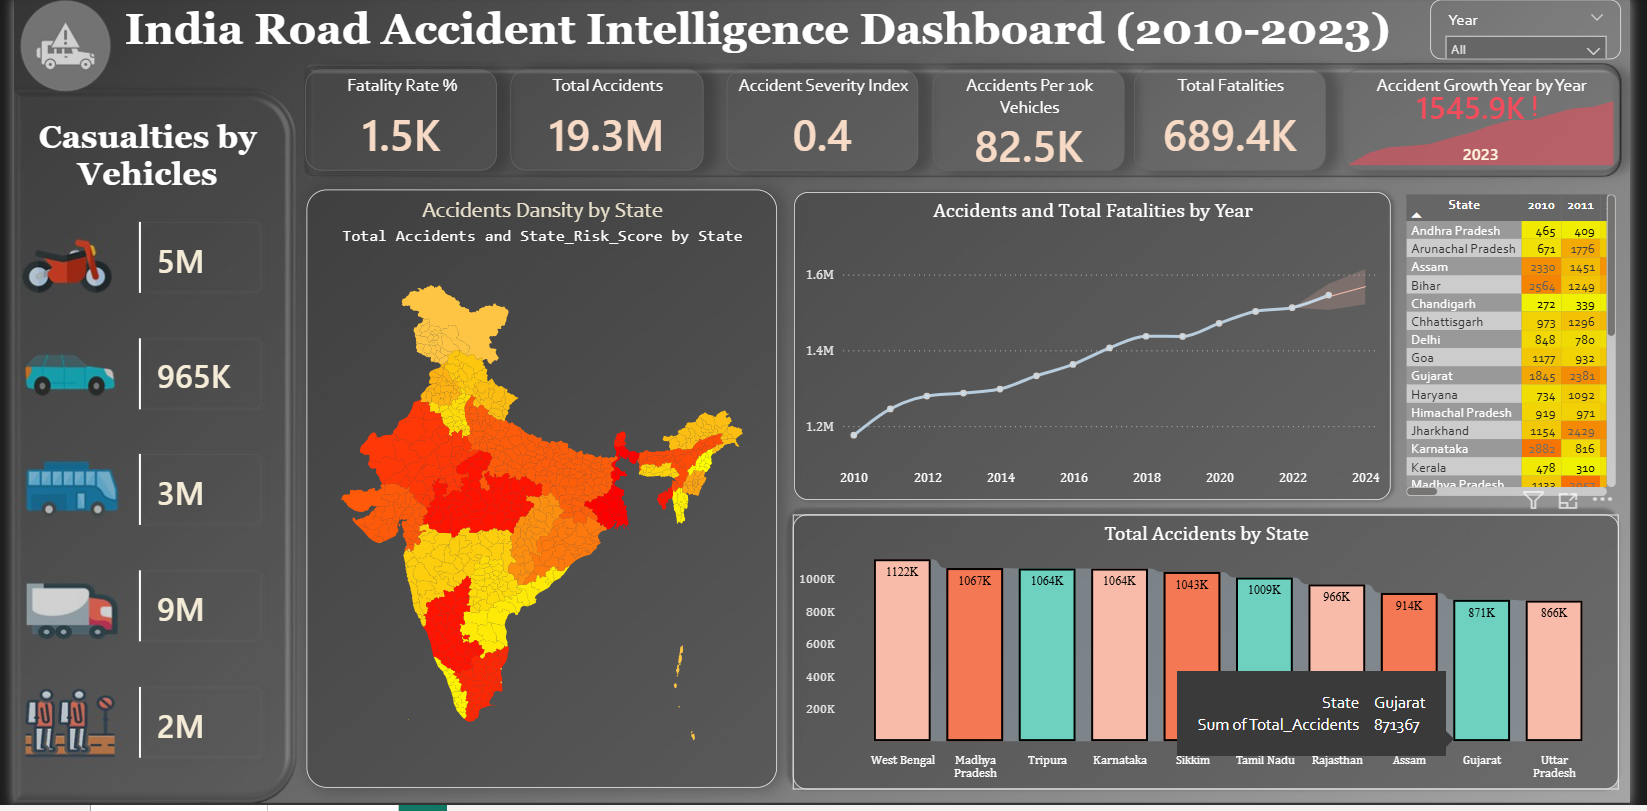

This screenshot's page, from the dashboard's own definition file:
{"tool":"powerbi","page":{"name":"National Overview","canvas":[1600,800],"ordinal":0},"visuals":[{"type":"textbox","box":[94.5,2.9,1316.9,68.3],"z":1000},{"type":"card","title":"Total Accidents","fields":{"Values":["Sum(India_Accidents_Data_2010_2023.Total_Accidents)"]},"box":[303.5,76.2,192,100.2],"z":2000},{"type":"card","title":"Fatality Rate %","fields":{"Values":["Accidents.Fatality Rate %"]},"box":[543,76.7,189.2,100.2],"z":3000},{"type":"card","title":"Accident Severity Index","fields":{"Values":["Avg(India_Accidents_Data_2010_2023.Severity_Index)"]},"box":[785.4,76.7,189.2,100.2],"z":4000},{"type":"card","title":"Total Fatalities","fields":{"Values":["Sum(India_Accidents_Data_2010_2023.Persons_Killed)"]},"box":[1036.5,76.7,190.5,100.2],"z":6000},{"type":"lineChart","fields":{"Category":["India_Accidents_Data_2010_2023.Year"],"Y":["Sum(India_Accidents_Data_2010_2023.Total_Accidents)"]},"box":[753.3,193,590,305.5],"z":7000},{"type":"columnChart","title":"Total Accidents by State","fields":{"Category":["India_Accidents_Data_2010_2023.State"],"Y":["Sum(India_Accidents_Data_2010_2023.Total_Accidents)"]},"box":[753.3,510.8,817.6,272.1],"z":8000},{"type":"shapeMap","title":"Accidents Dansity by State","fields":{"Category":["India_Accidents_Data_2010_2023.State"],"Value":["Sum(India_Accidents_Data_2010_2023.Total_Accidents)"]},"box":[289.4,190.5,442.8,592.5],"z":9000},{"type":"kpi","title":"Accident Growth Year by Year","fields":{"TrendLine":["India_Accidents_Data_2010_2023.Year"],"Indicator":["Sum(India_Accidents_Data_2010_2023.Total_Accidents)"],"Goal":["Min(India_Accidents_Data_2010_2023.Total_Accidents)"]},"box":[1288.8,75.4,273.3,100.2],"z":11000},{"type":"slicer","title":"Year","fields":{"Values":["India_Accidents_Data_2010_2023.Year"]},"box":[1401.2,2.9,189,59.6],"z":12000},{"type":"textbox","box":[0,114.8,264.5,100.3],"z":13000},{"type":"cardVisual","fields":{"Data":["Sum(Accidents.Car_Involved)","Sum(Accidents.Bus_Involved)","Sum(Accidents.Truck_Involved)","Sum(Accidents.TwoWheeler_Involved)","Sum(Accidents.Pedestrian_Involved)"]},"box":[94.5,193.3,180.2,590.1],"z":14000},{"type":"pivotTable","fields":{"Rows":["Accidents.State"],"Columns":["Accidents.Year"],"Values":["Sum(Accidents.Persons_Killed)"]},"box":[1372.5,190.5,217.3,308.2],"z":15000}]}

Visuals, with their boxes in screenshot pixels (x1, y1, x2, y2), scaled from the page's 1600x800 canvas onto the 1647x811 screenshot:
textbox: x1=97 y1=3 x2=1453 y2=72
"Total Accidents" card: x1=312 y1=77 x2=510 y2=179
"Fatality Rate %" card: x1=559 y1=78 x2=754 y2=179
"Accident Severity Index" card: x1=808 y1=78 x2=1003 y2=179
"Total Fatalities" card: x1=1067 y1=78 x2=1263 y2=179
lineChart - India_Accidents_Data_2010_2023.Year x Sum(India_Accidents_Data_2010_2023.Total_Accidents): x1=775 y1=196 x2=1383 y2=505
"Total Accidents by State" columnChart: x1=775 y1=518 x2=1617 y2=794
"Accidents Dansity by State" shapeMap: x1=298 y1=193 x2=754 y2=794
"Accident Growth Year by Year" kpi: x1=1327 y1=76 x2=1608 y2=178
"Year" slicer: x1=1442 y1=3 x2=1637 y2=63
textbox: x1=0 y1=116 x2=272 y2=218
cardVisual - Sum(Accidents.Car_Involved) x Sum(Accidents.Bus_Involved): x1=97 y1=196 x2=283 y2=794
pivotTable - Accidents.State x Accidents.Year: x1=1413 y1=193 x2=1637 y2=506
